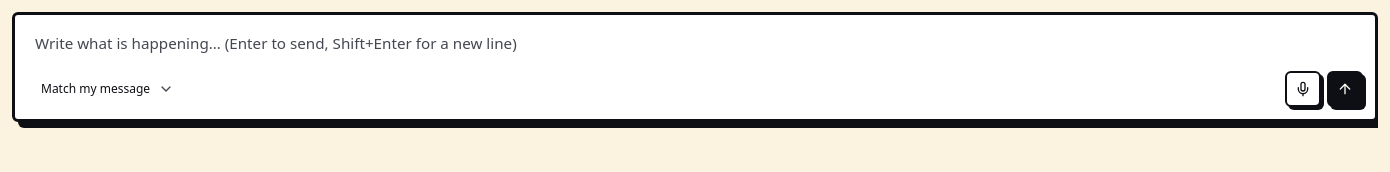
Test: Composer › validates empty input instead of sending
Click the button named "Send message": (1345, 89) 1327,71 -> 1363,107
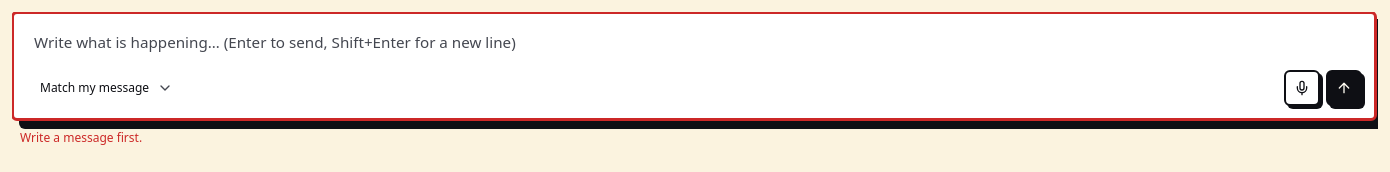
expect the message reads "Write a message first.": met, box 20,129 -> 142,146
